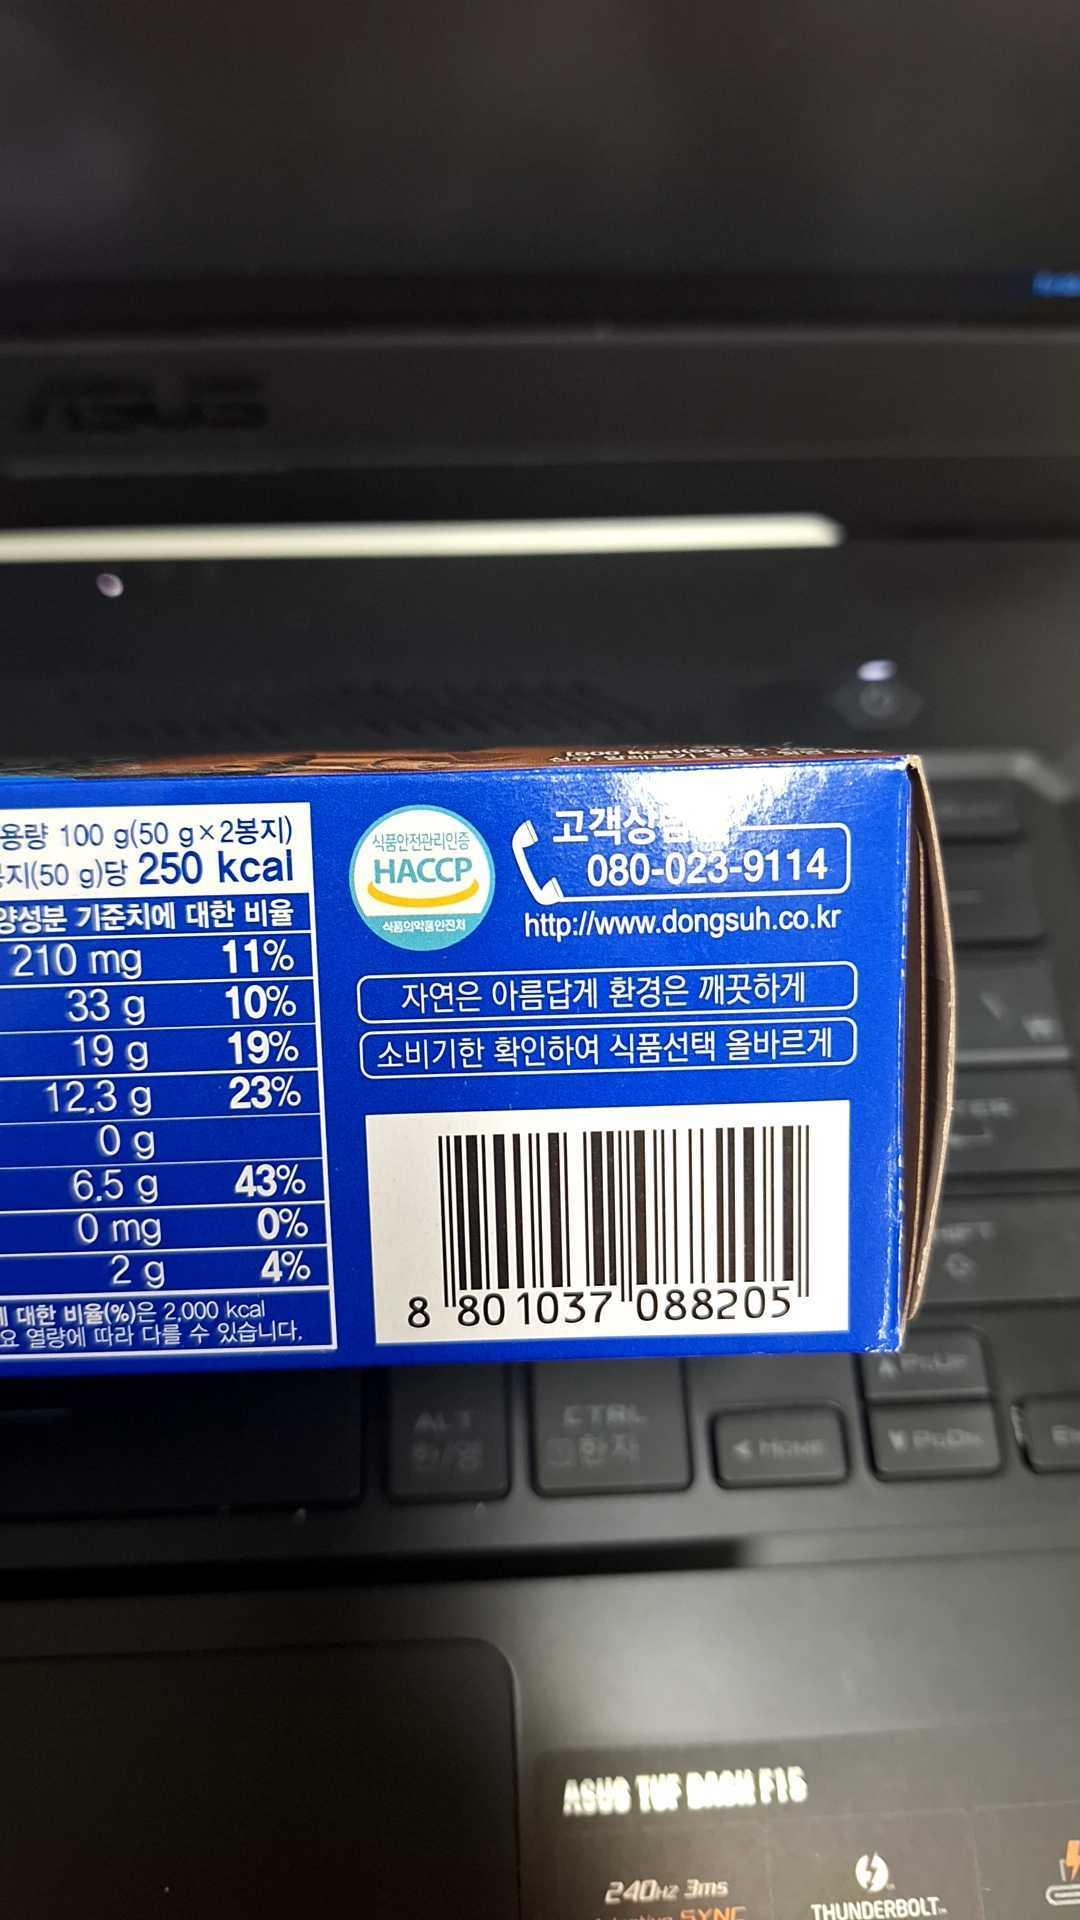kuandku-2000-2024-11-08: (388, 1122, 837, 1325)
